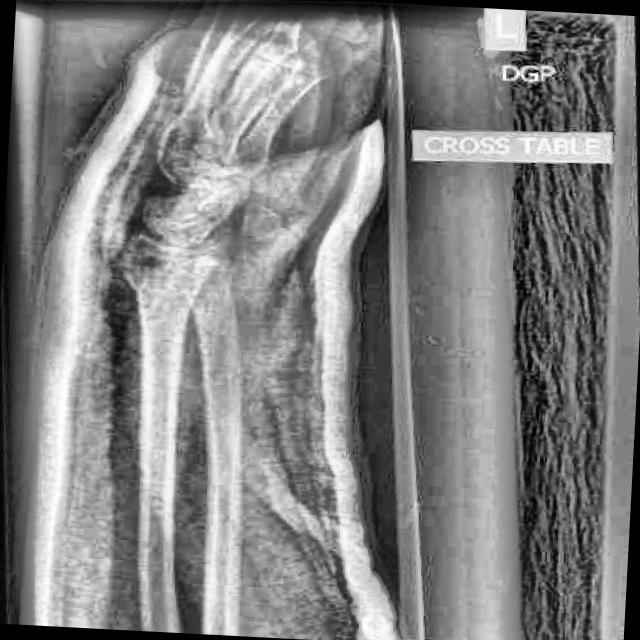fingers positive: (103, 236, 243, 307)
